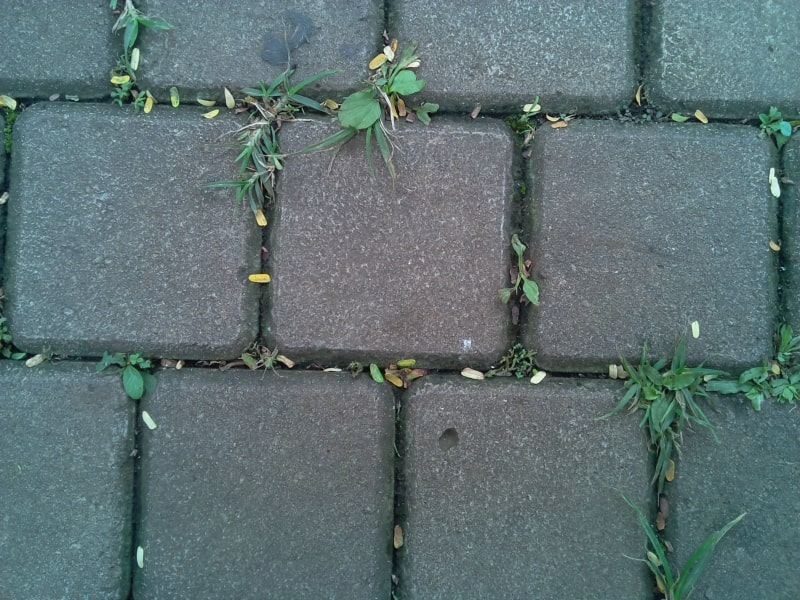Weed: (233, 78, 325, 206), (612, 352, 710, 462), (623, 508, 725, 599), (331, 75, 426, 158), (740, 329, 800, 408), (506, 234, 541, 312), (108, 5, 163, 54), (99, 354, 155, 394), (758, 107, 800, 152), (112, 78, 146, 108), (511, 108, 537, 137), (253, 347, 279, 371)
